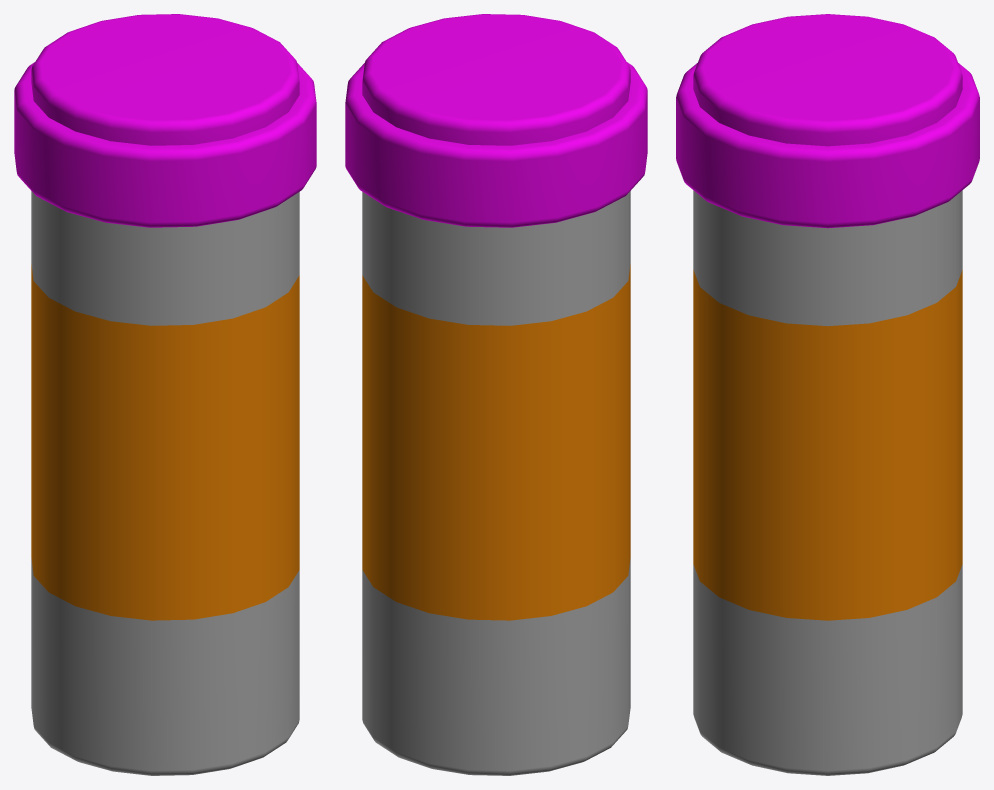
File: pillcombo.fbx
3 views of the same model, side by side, from view 1: azimuth 30°, elevation 25°; view 2: azimuth 150°, elevation 25°; view 3: azimuth 270°, elevation 25° (orthographic).
Parts seen in each view (by area): view 1: pCylinder50; view 2: pCylinder50; view 3: pCylinder50.
Boxes of the visible parts, box(x1,y1,x2,y2) form: pCylinder50: box(14, 14, 316, 775); pCylinder50: box(345, 14, 647, 775); pCylinder50: box(676, 14, 979, 775).
Size of the model in its own units: 0.2542 by 0.6037 by 0.2542.
